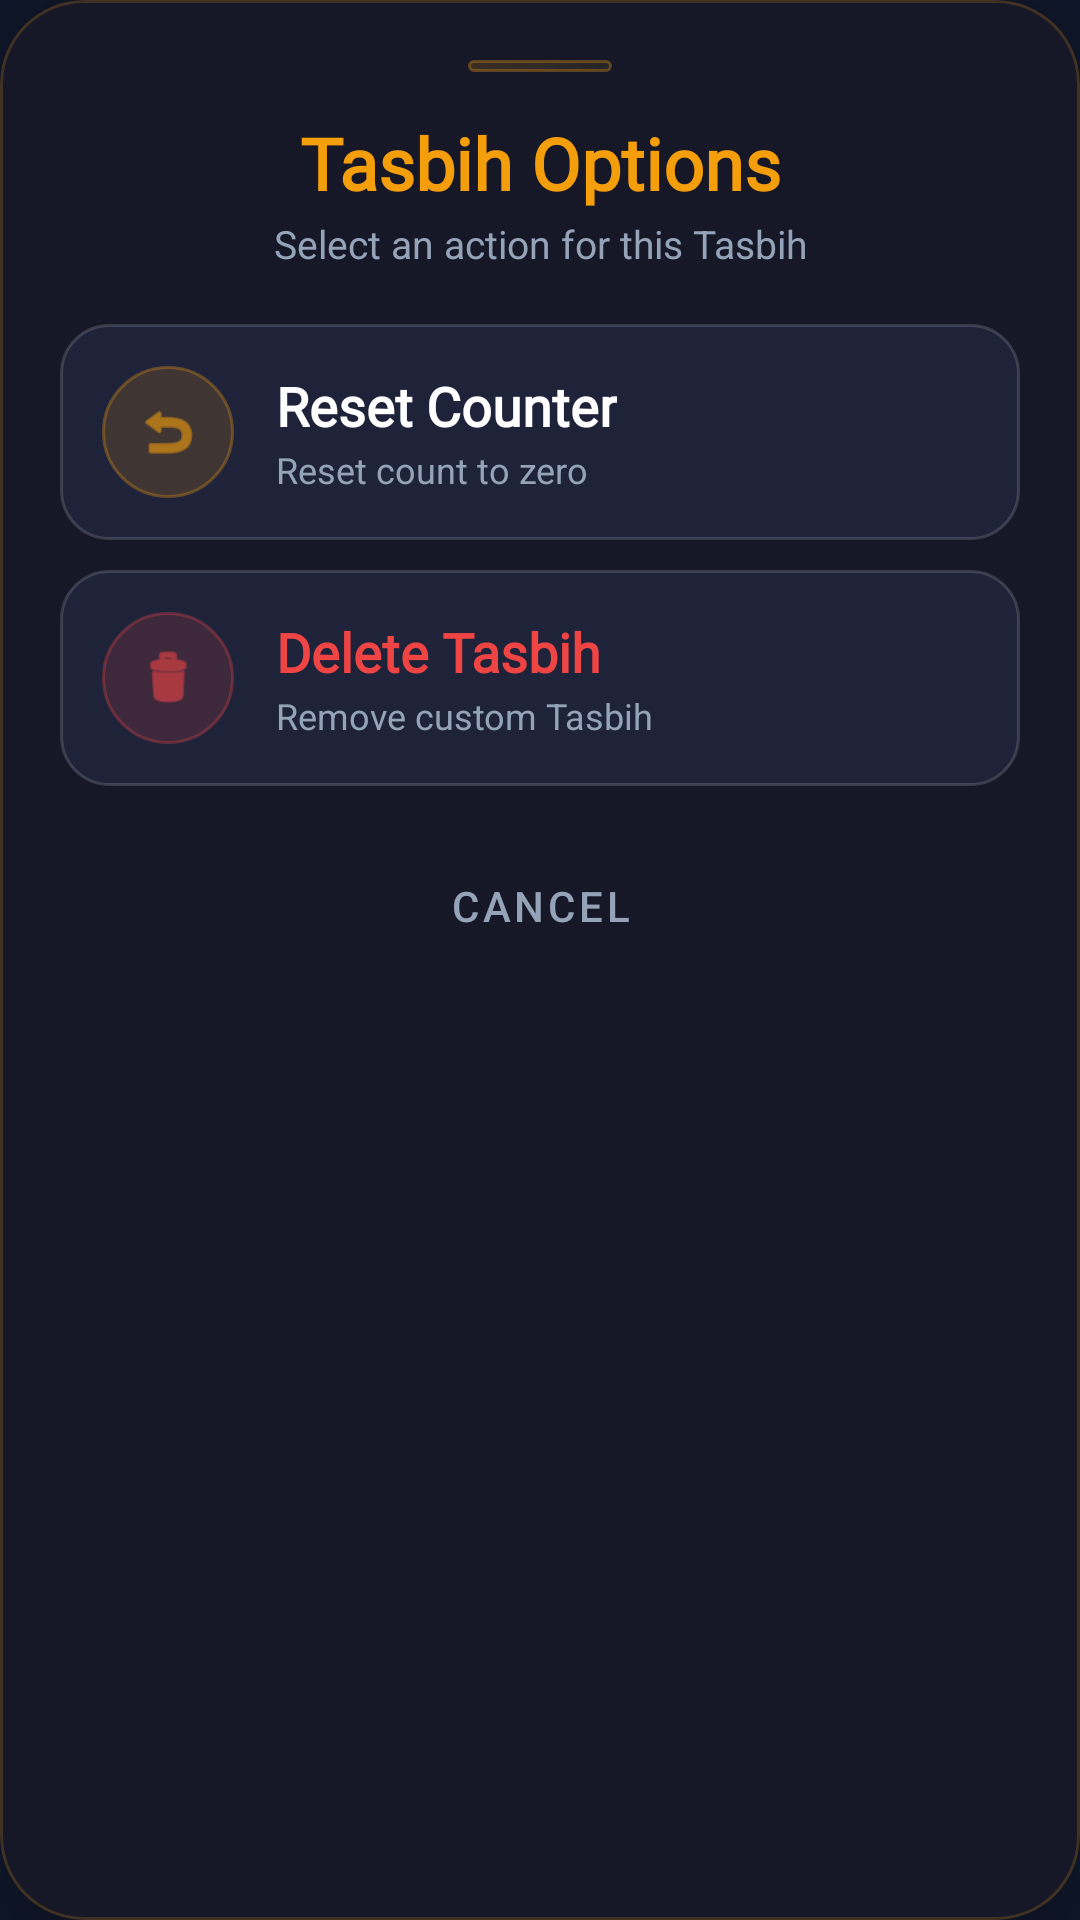

Icons on this 1080×1920 Android screen, each with the point to tap as [x,y]:
revert: [169,432]
